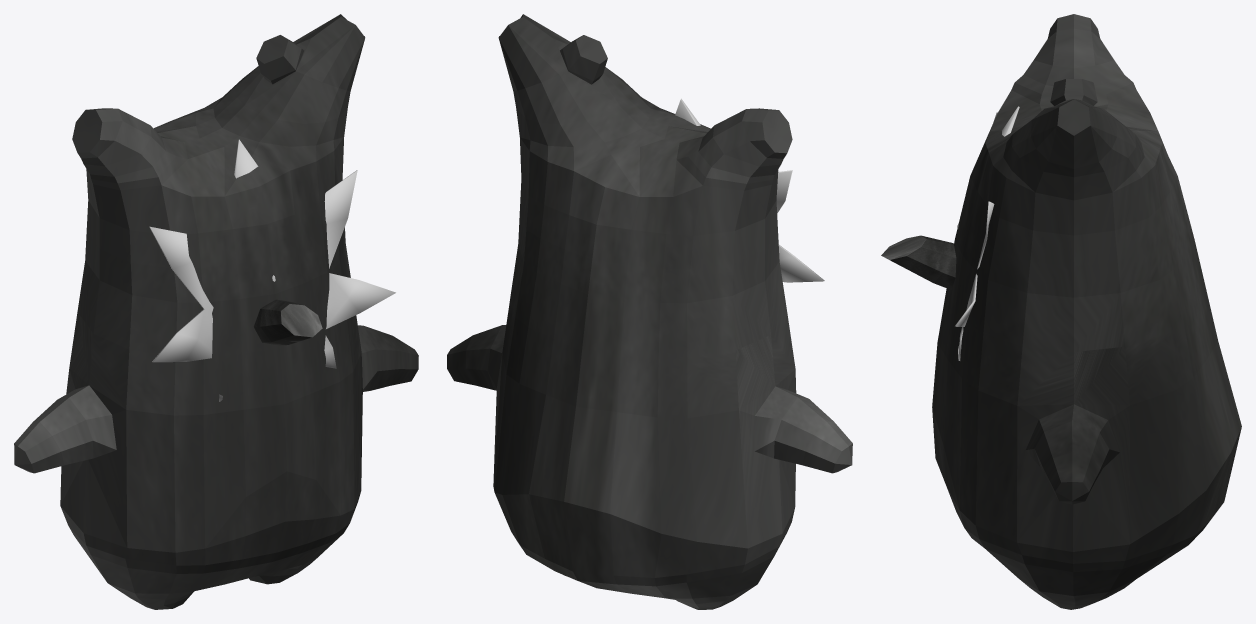
Rendered from frame_0034.obj.
3 renders of one model, left to right at view 1: azimuth 30°, elevation 25°; view 2: azimuth 150°, elevation 25°; view 3: azimuth 270°, elevation 25°, orthographic.
Visible parts, largest first — view 1: korok, leaf.003_柱体.013, nose.003_柱体.011; view 2: korok, leaf.003_柱体.013; view 3: korok, nose.003_柱体.011, leaf.003_柱体.013.
Part boxes in pixels (bbox=[...]): korok: bbox=[14, 14, 418, 609]; leaf.003_柱体.013: bbox=[149, 139, 395, 401]; nose.003_柱体.011: bbox=[254, 299, 322, 345]; korok: bbox=[447, 14, 852, 609]; leaf.003_柱体.013: bbox=[675, 98, 824, 282]; korok: bbox=[932, 14, 1241, 609]; nose.003_柱体.011: bbox=[881, 235, 956, 289]; leaf.003_柱体.013: bbox=[955, 106, 1019, 360].
Bounding box in the file's own units: 1.74 × 2.25 × 1.36.
